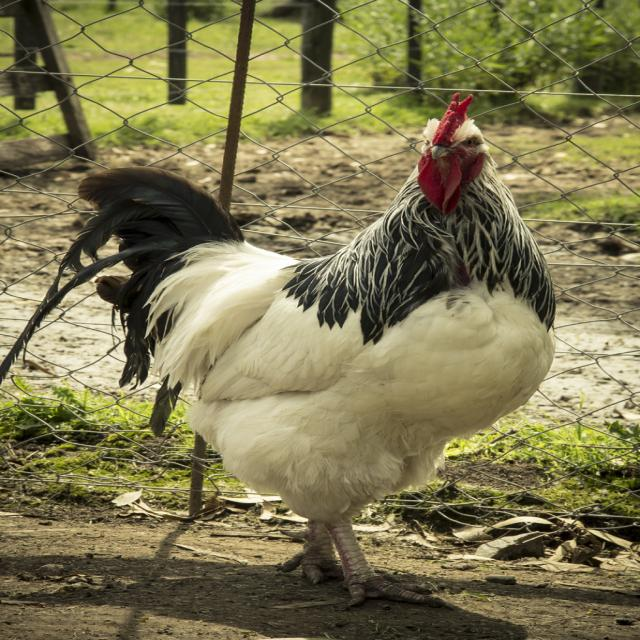Chicken: (0, 96, 548, 616)
